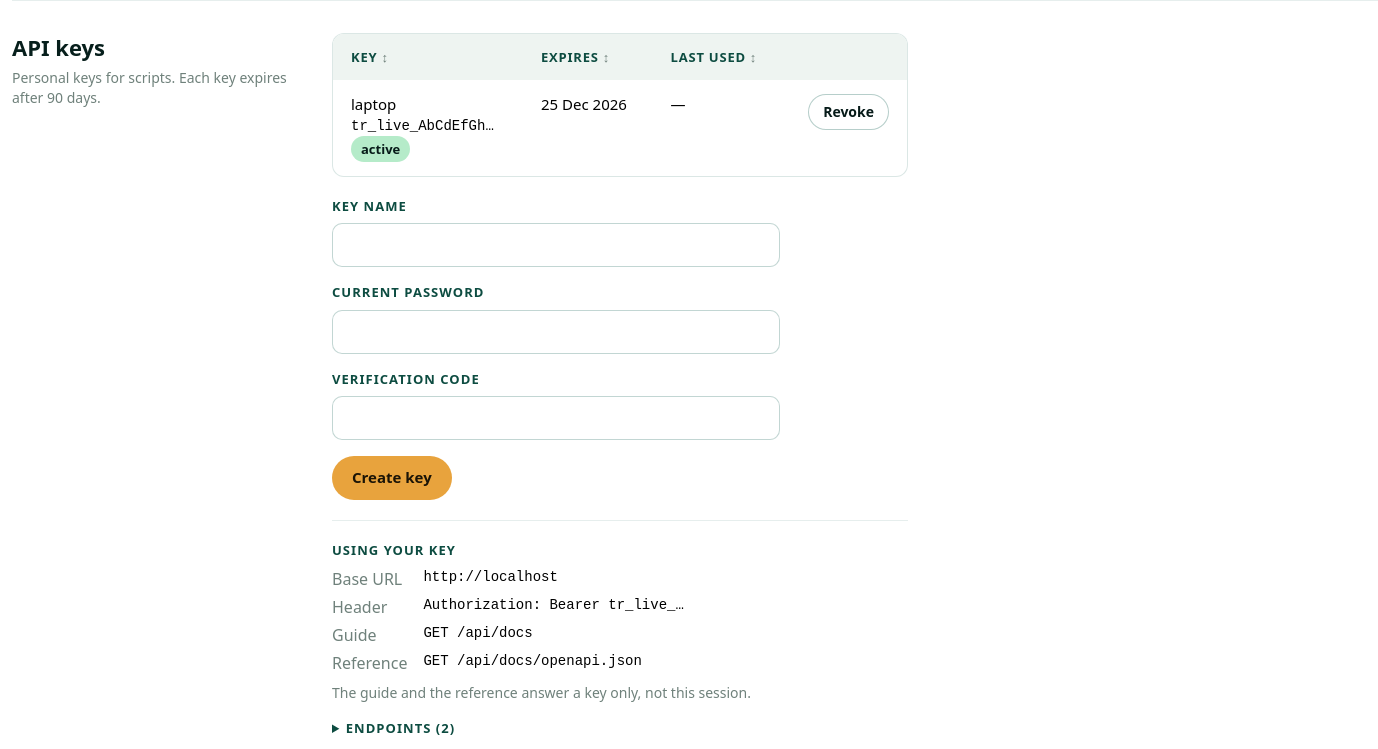
Test case: RFC-82 R7 ApiKeysSection › creates a key, shows the secret once, and revokes a key
Expected: the text "laptop" is shown, x1=351 y1=94 x2=396 y2=114
Expected: the text "tr_live_AbCdEfGh…" is shown, x1=351 y1=116 x2=505 y2=136
Step 1. Type "script" into the field labelled "Key name" → (556, 245), box x1=332 y1=223 x2=780 y2=267
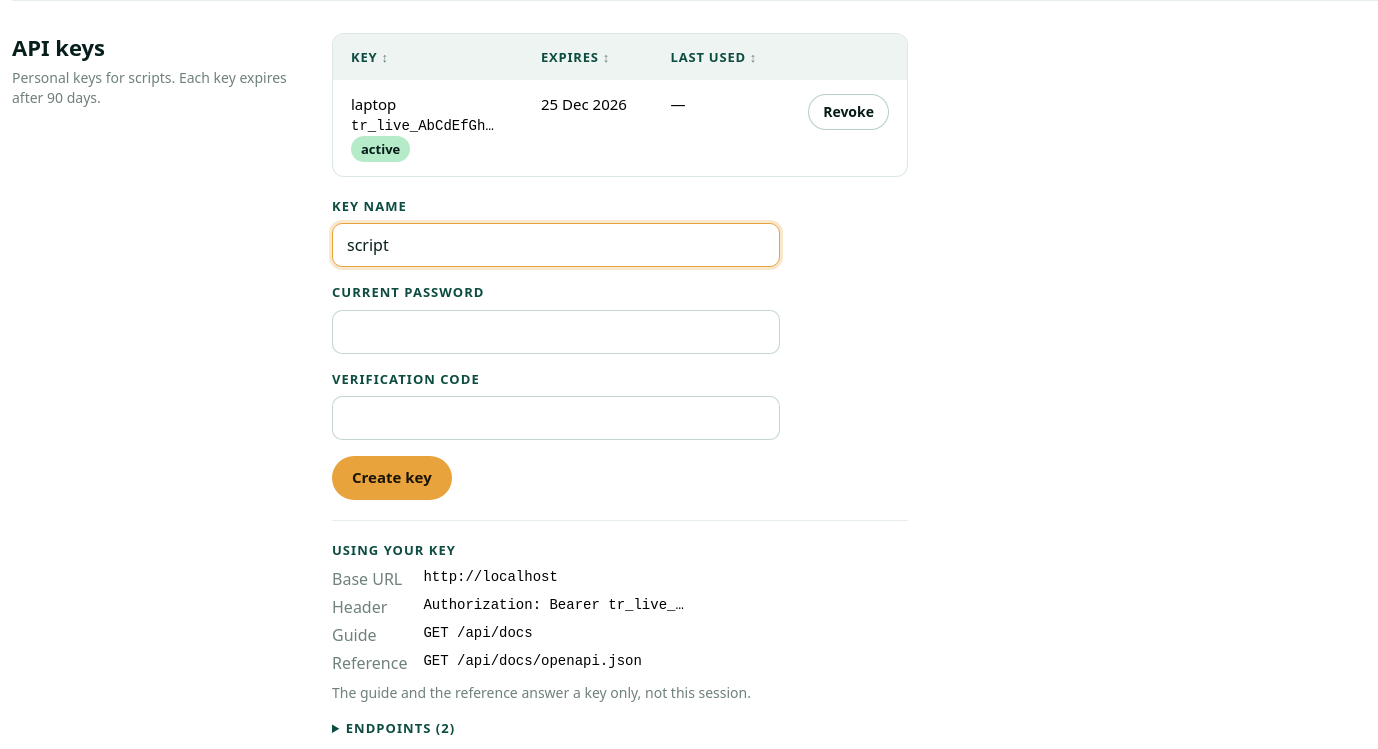
Step 2. Type "pw" into the password field labelled "Current password" → (556, 332), box x1=332 y1=310 x2=780 y2=354
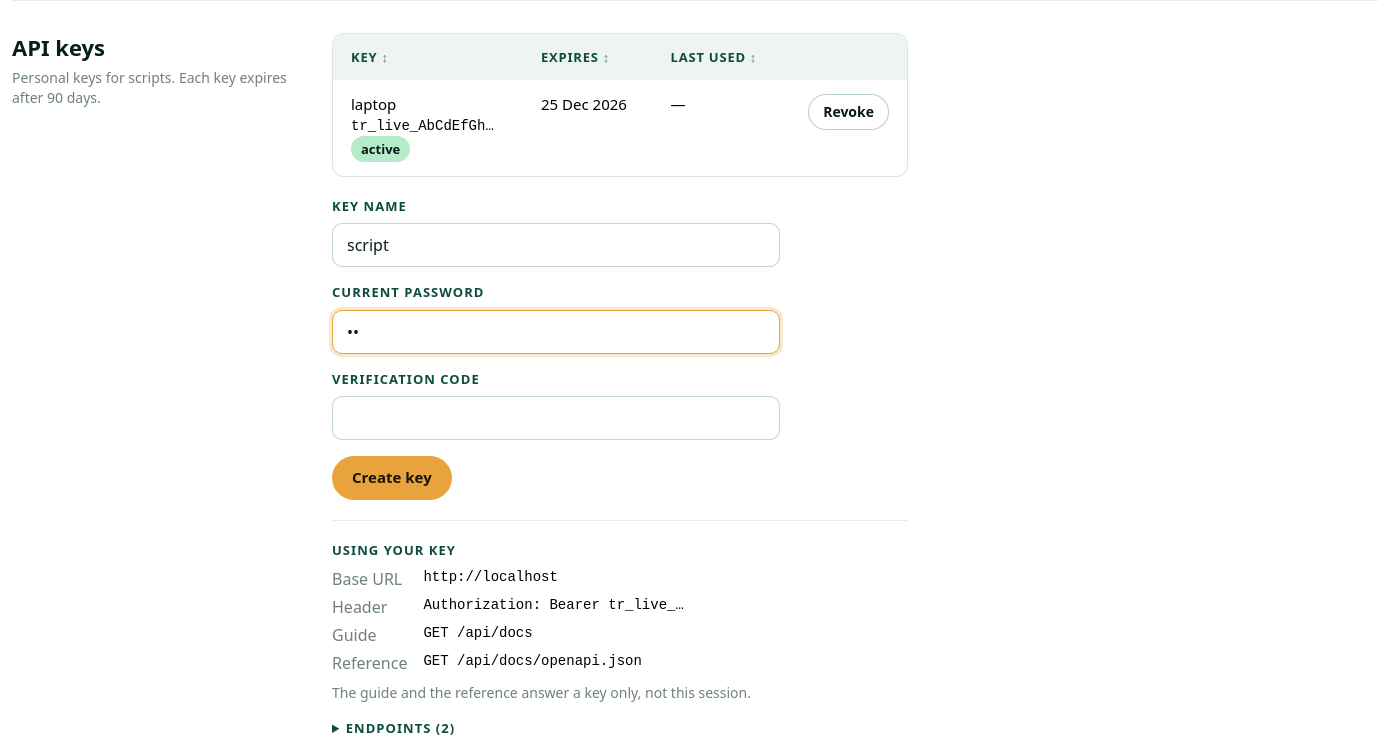
Step 3. Type "123456" into the field labelled "Verification code" → (556, 418), box x1=332 y1=396 x2=780 y2=440
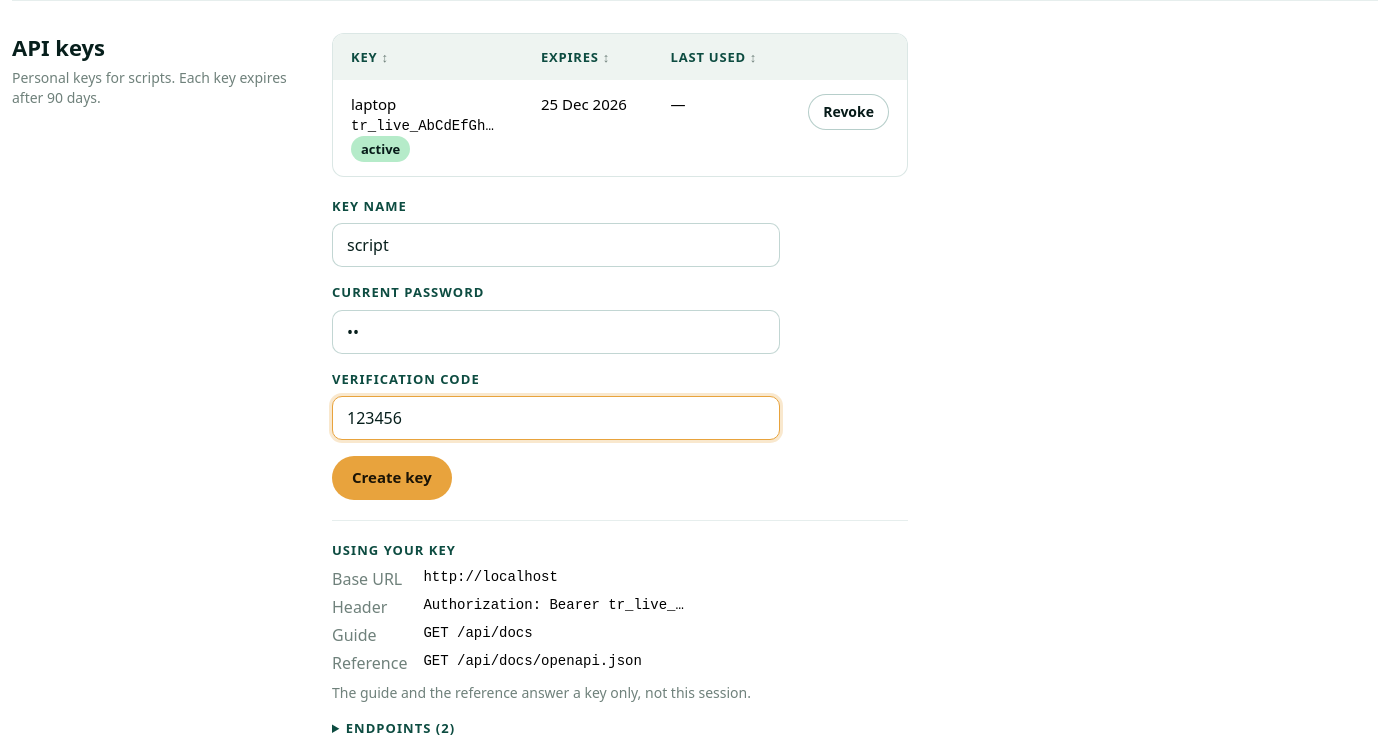
Step 4. Click the button "Create key" → (392, 478), box x1=332 y1=456 x2=452 y2=500
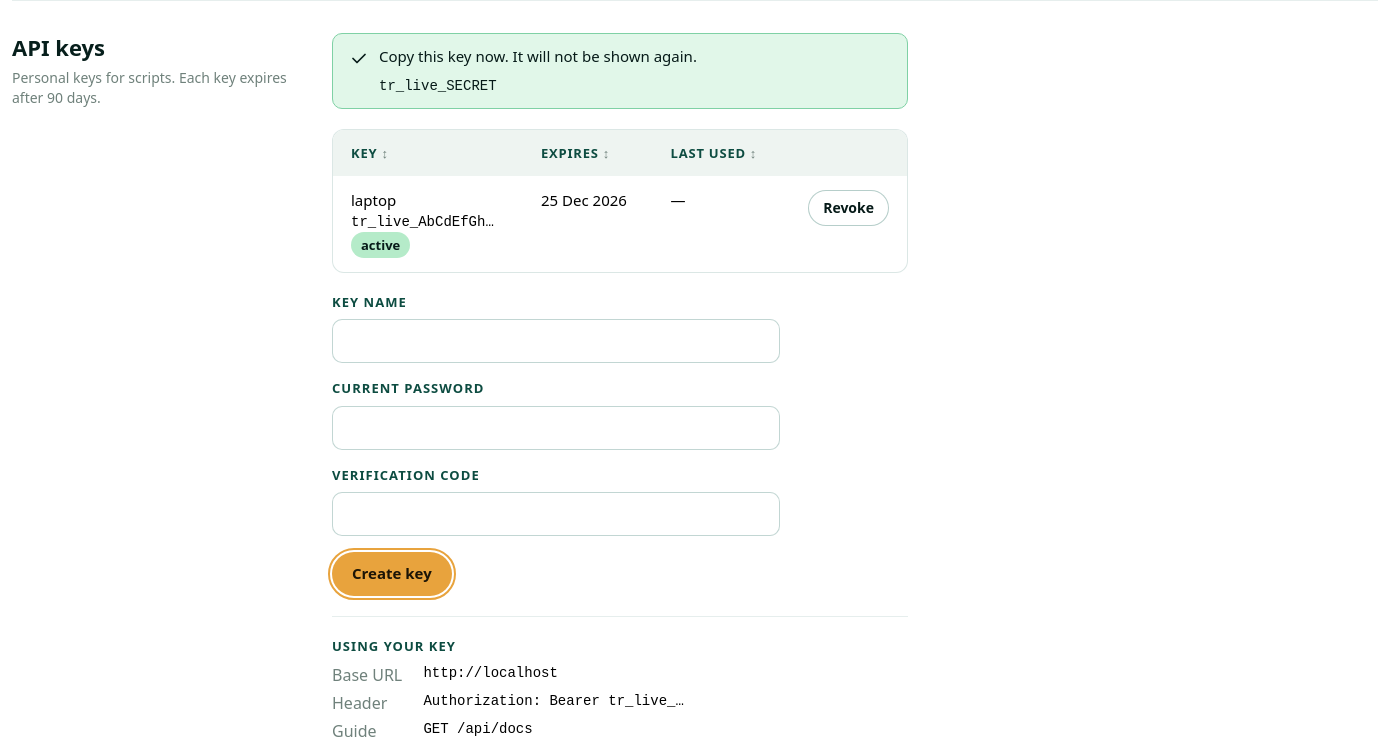
Now the text "tr_live_SECRET" is shown, box x1=379 y1=78 x2=497 y2=94
Now the text "will not be shown again" is shown, box x1=379 y1=46 x2=697 y2=66
Step 5. Click the button with aria-label "Revoke laptop" → (849, 208), box x1=808 y1=190 x2=889 y2=226
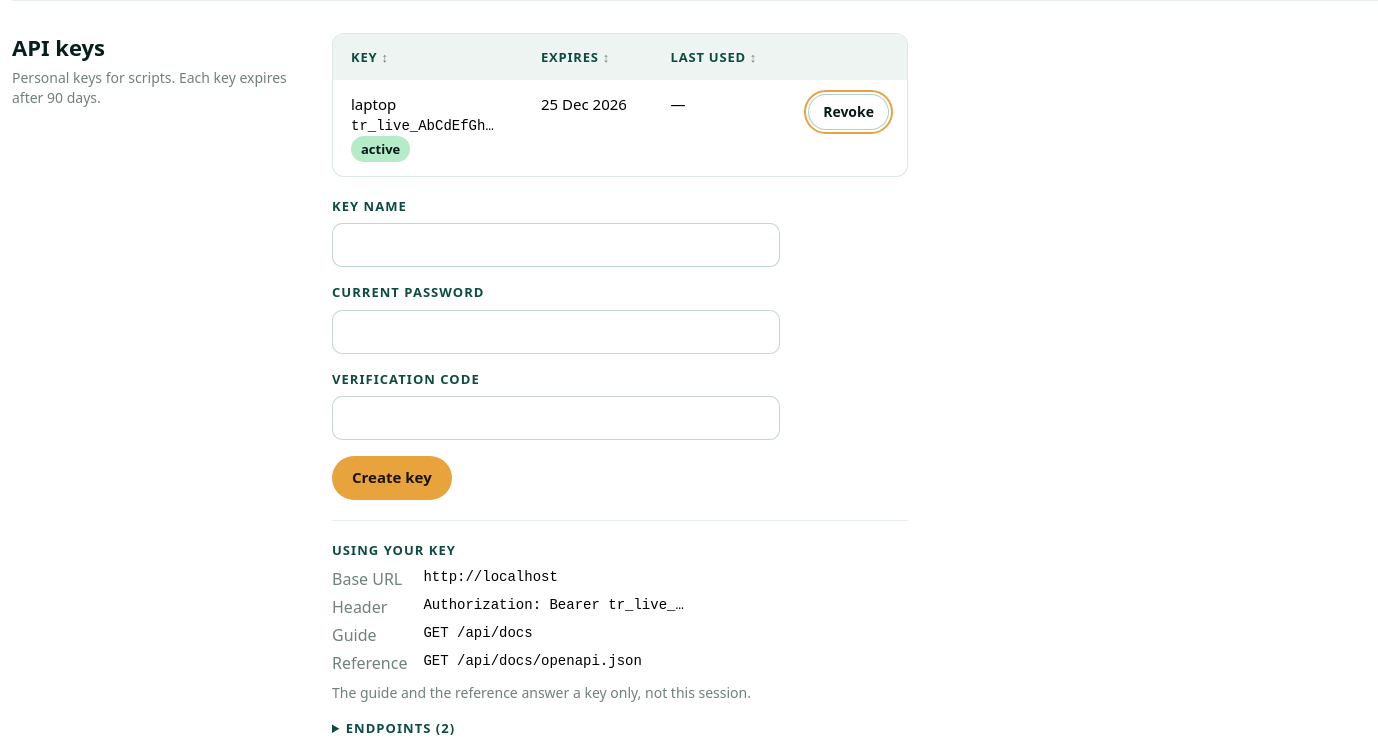
Now the text "tr_live_SECRET" is gone
